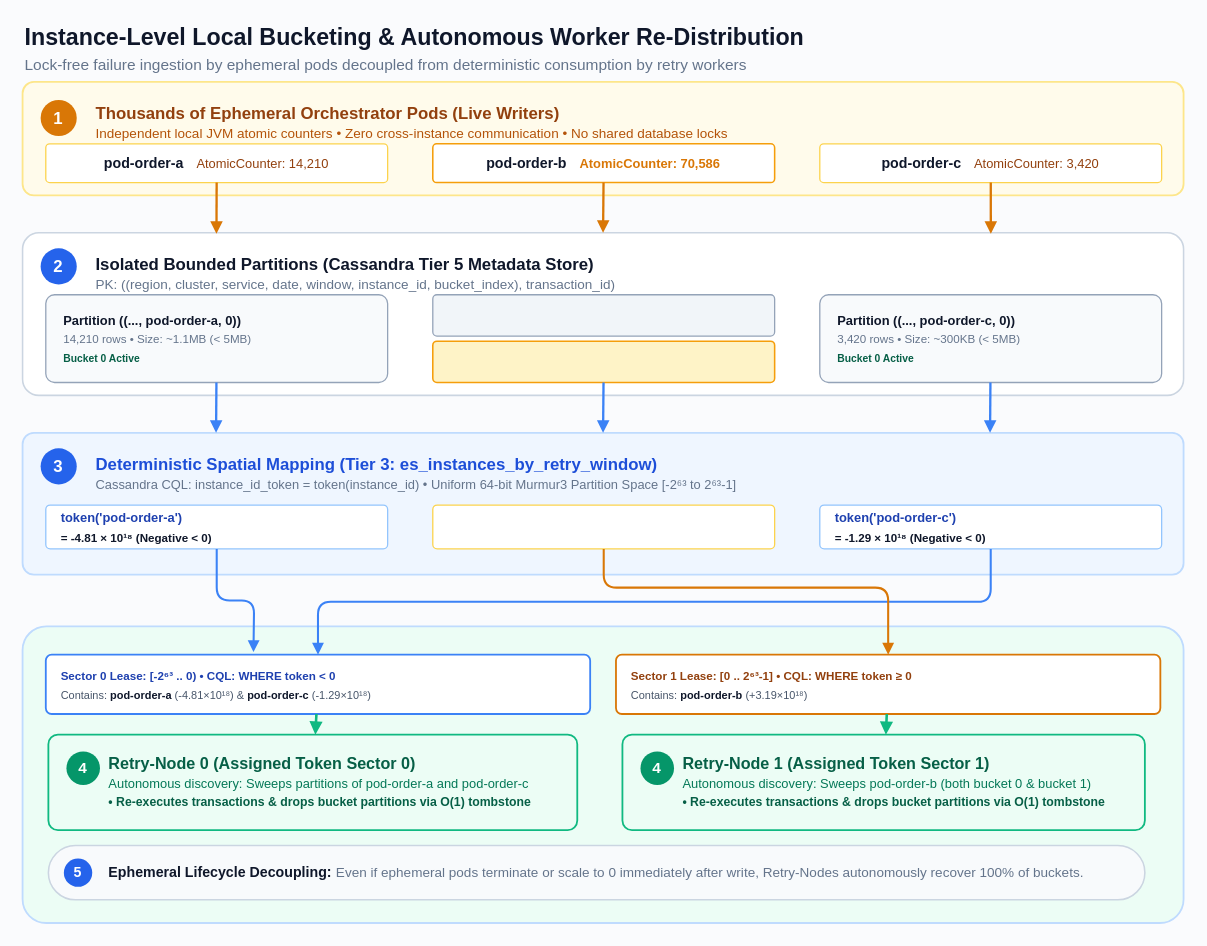
This 1207x946 diagram has some shape labels left out. The centre of each missing label's shape, as x and y in pixels:
"Partition ((..., pod-order-b, 0)) 50,000 rows • Capped & Sealed (~3.8MB)" goes at (603,314).
"Partition ((..., pod-order-b, 1)) 20,586 rows • Rollover Overflow (~1.6MB)" goes at (603,361).
"token('pod-order-b') = +3.19 × 10¹⁸ (Positive ≥ 0)" goes at (603,526).
